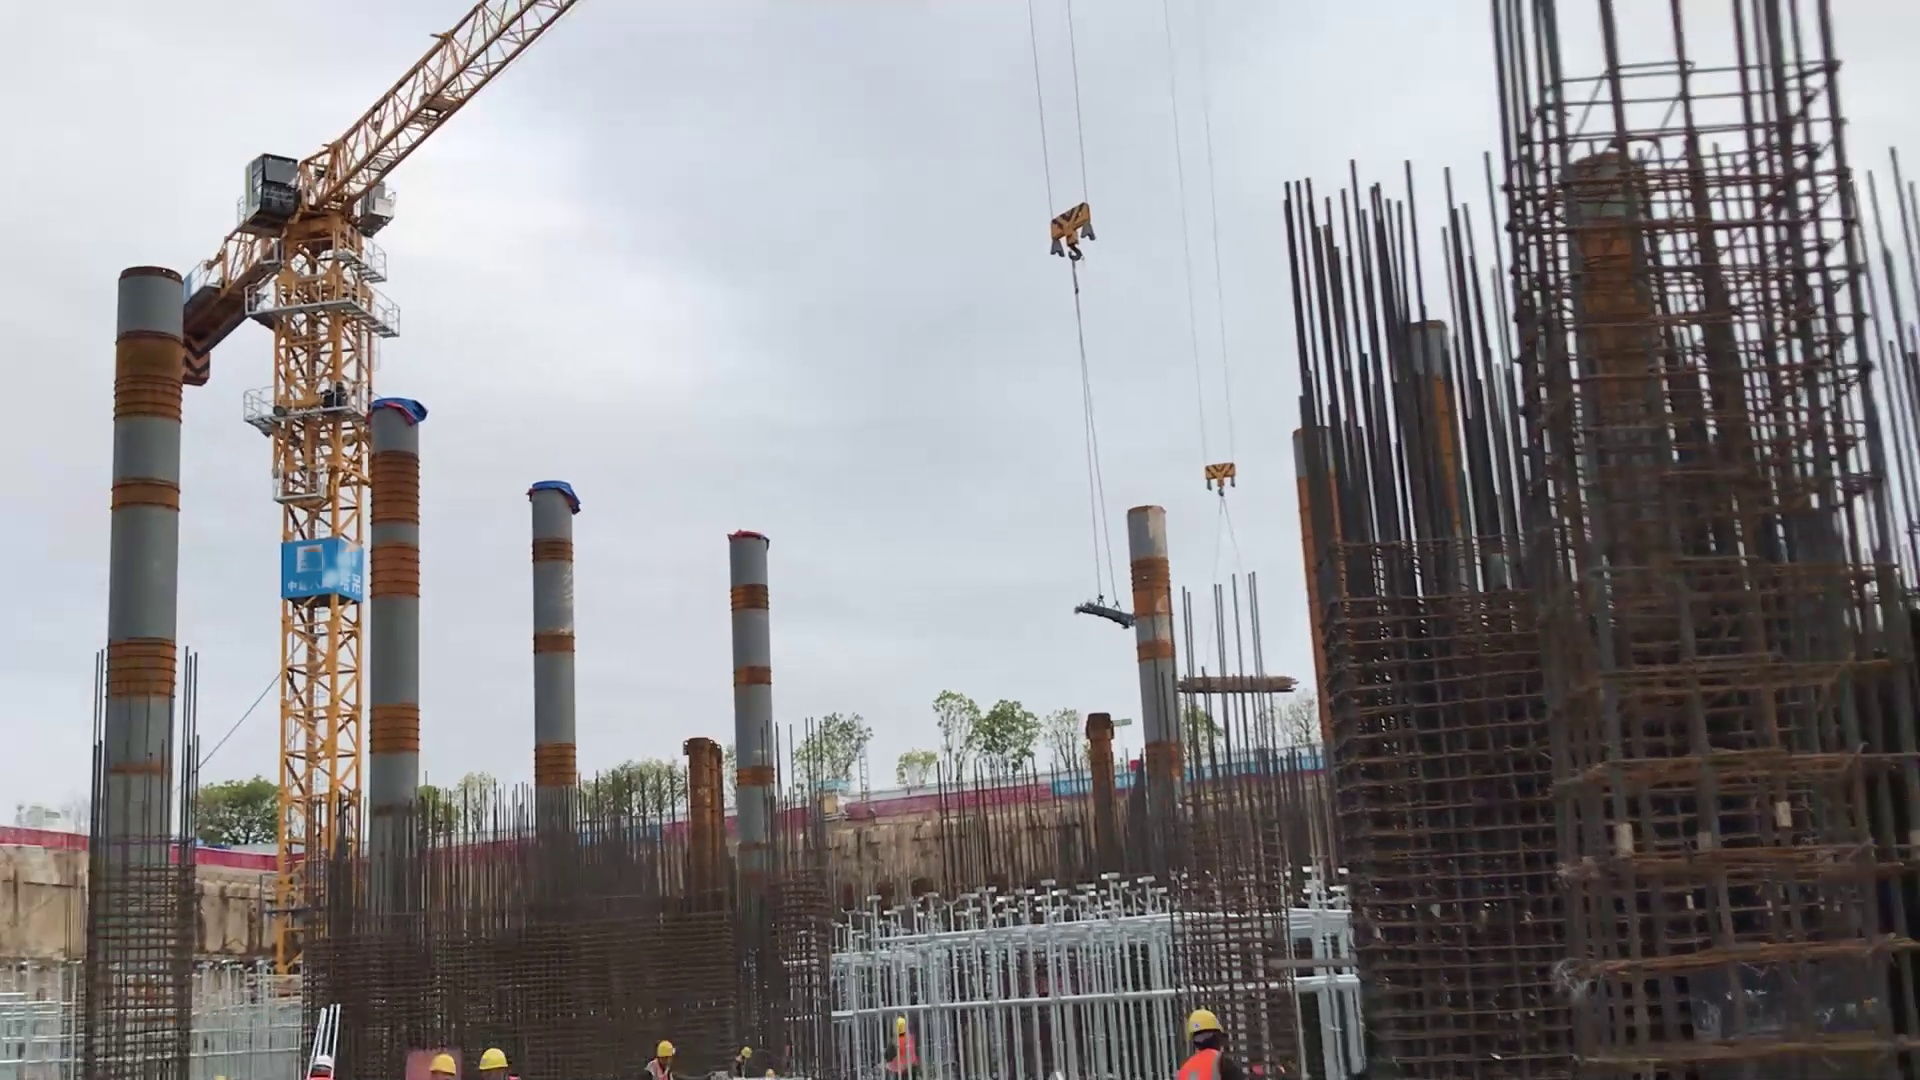helmet: (1185, 1009, 1227, 1036), (479, 1046, 509, 1074), (427, 1054, 459, 1074), (309, 1052, 335, 1073), (656, 1039, 677, 1061)
hook: (1045, 198, 1099, 278), (1203, 460, 1237, 501)
person: (1175, 1000, 1268, 1080), (889, 1016, 926, 1080), (638, 1034, 690, 1080), (722, 1042, 773, 1080)
rebar: (1073, 600, 1134, 631)
vest: (1175, 1046, 1232, 1076)
wood: (1167, 657, 1300, 708)
